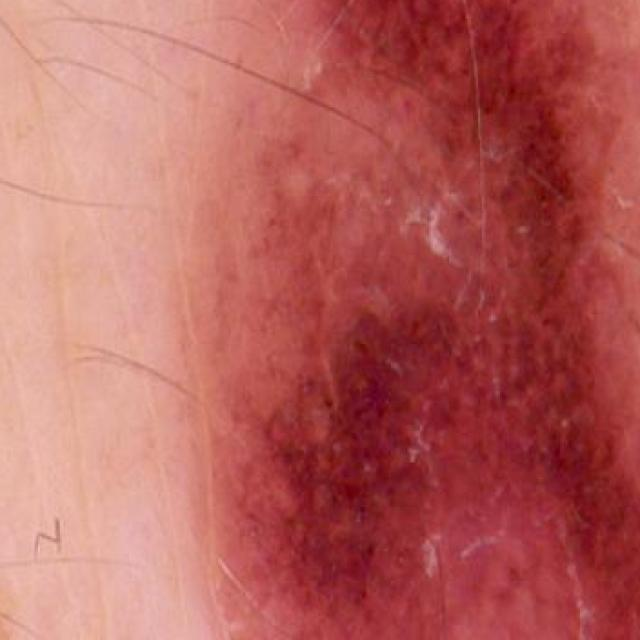NV: (154, 0, 640, 640)
